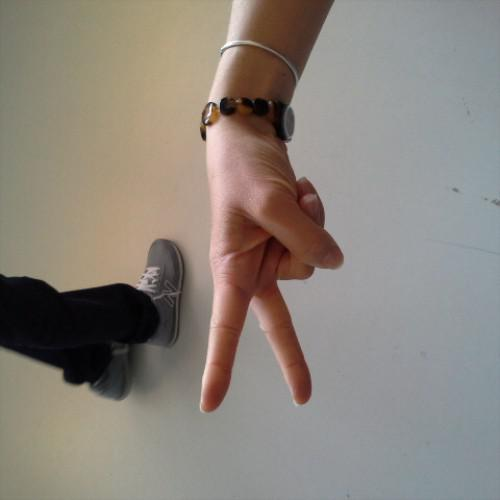scissors: (196, 101, 347, 415)
